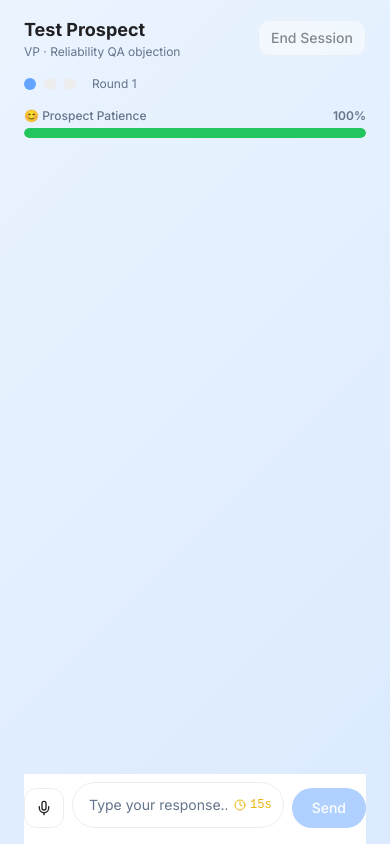
Scenario: GamifiedRoleplay Phase 2A reliability › emits complete success and failure telemetry with stable logical ids
In the field with placeholder "Type your response…": (178, 805) [72,782,284,828], type "Telemetry turn."
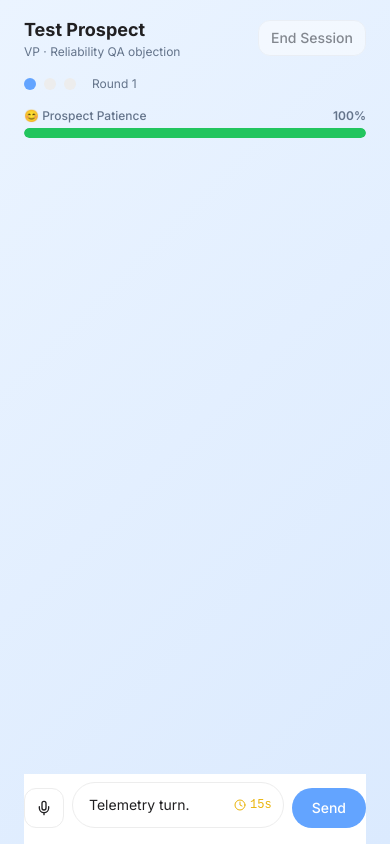
Click the button "Send": (329, 808) [292,788,366,828]
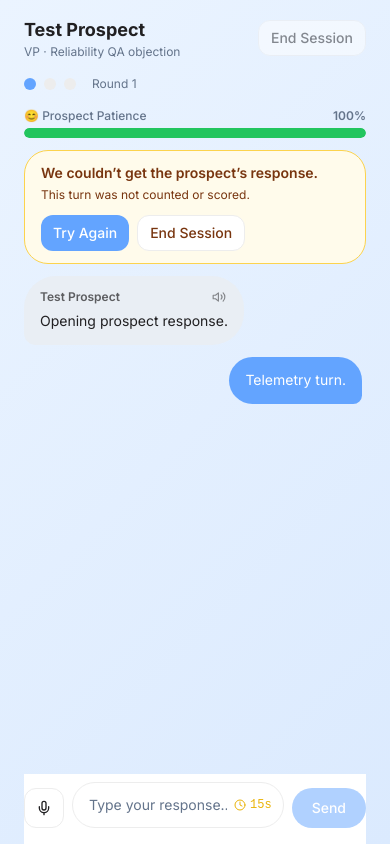
expect the text "This turn was not counted or scored." is shown: met, box [41,187,250,202]
